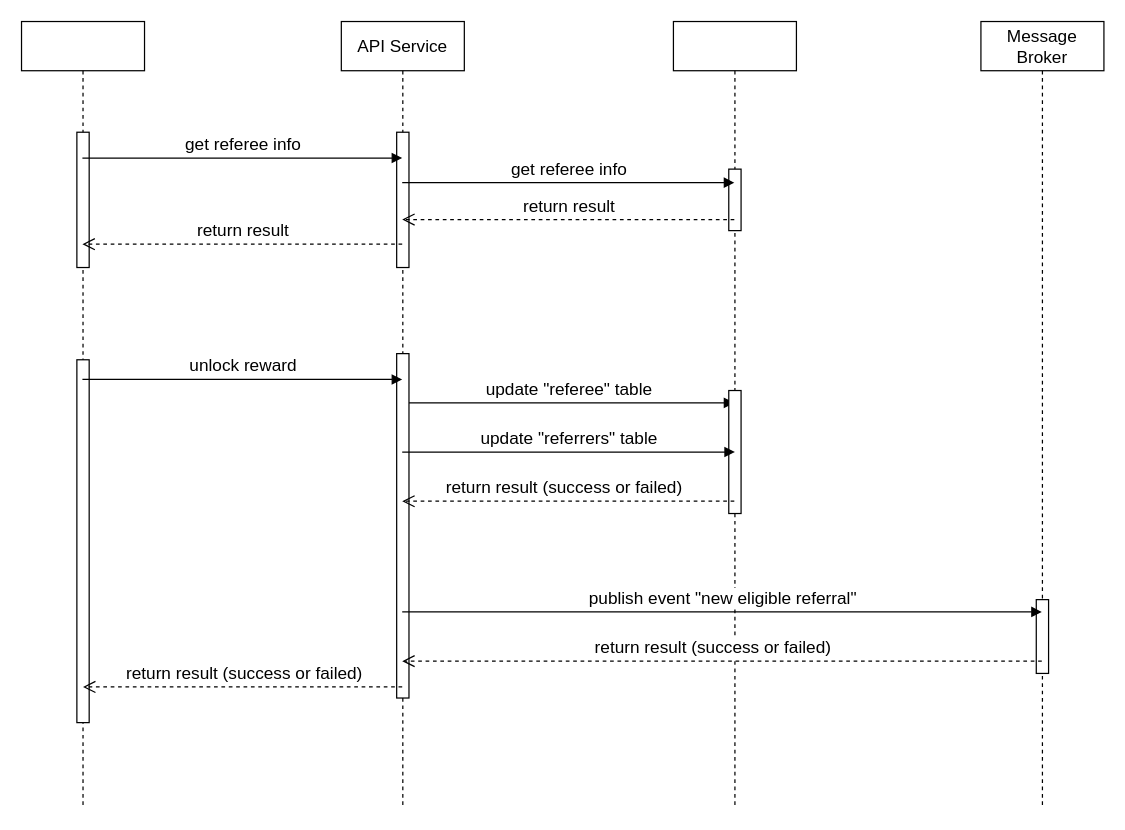
This 1125x830 diagram has some shape labels left out. The shapes that lost their labels are listed below. From the top down, each one's box as (x1, y1, x2, y2) in pixels, then its label:
(20, 20, 145, 809): Clients
(672, 20, 796, 809): Database
